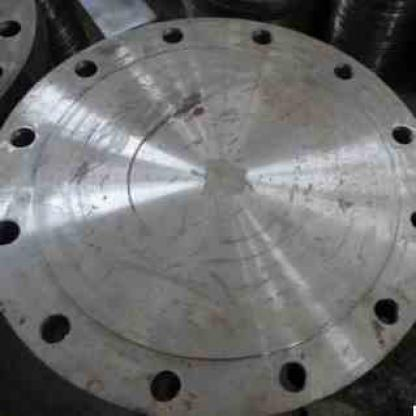FOD: (0, 3, 415, 414)
